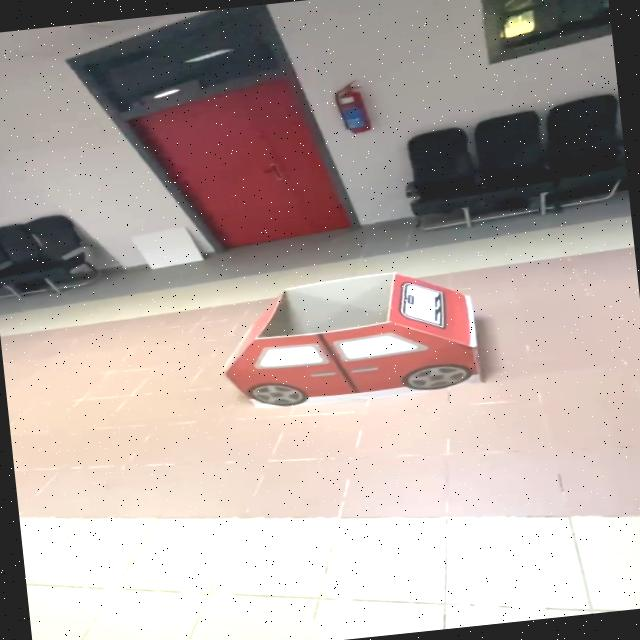red_car: (193, 250, 527, 443)
